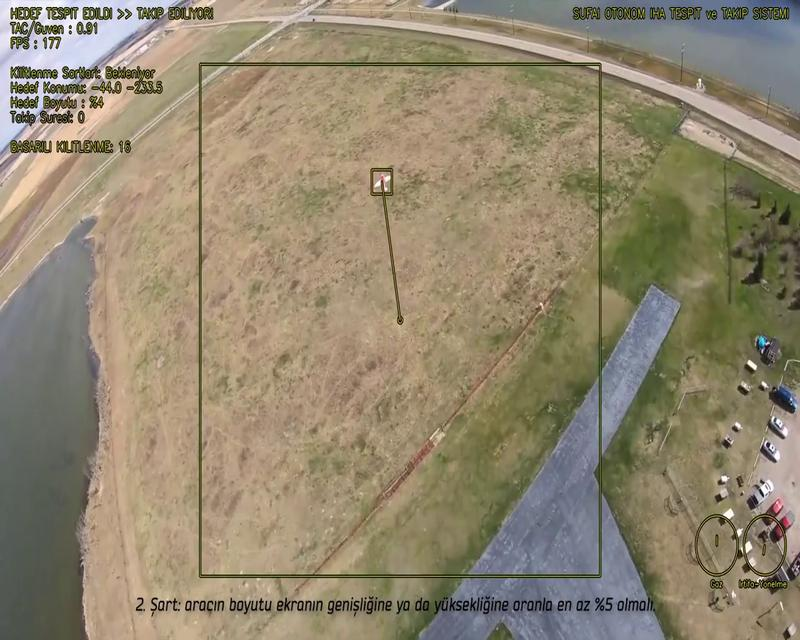UAV: (374, 173, 390, 193)
